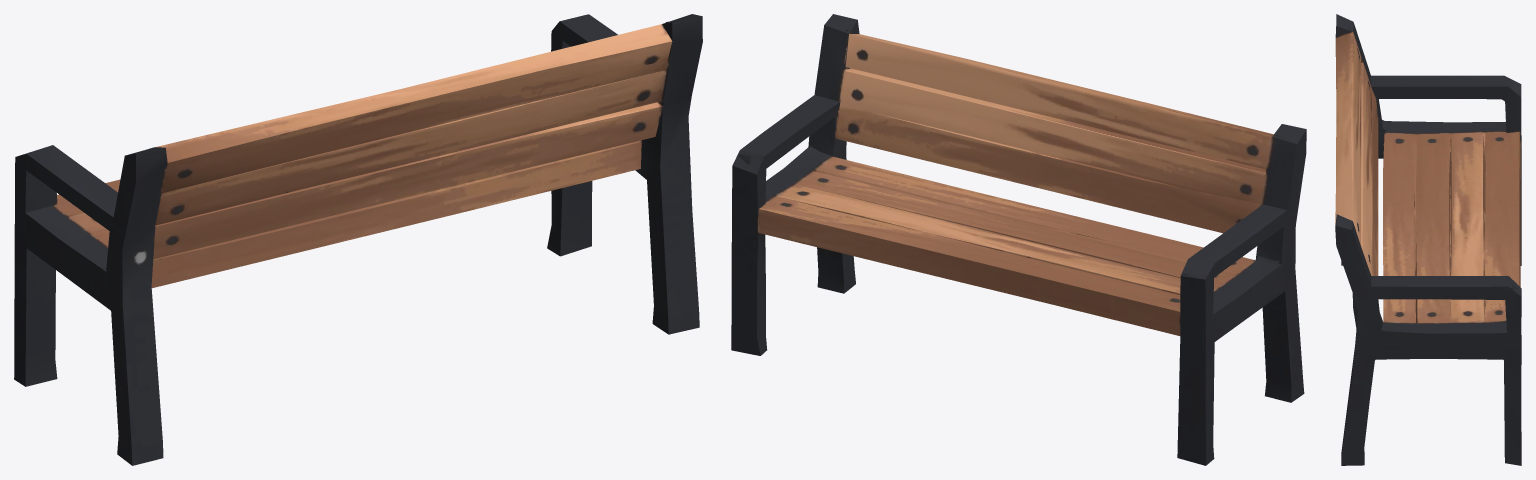
The model's file is seat_bench_v2.glb.
3 views of the same model, side by side, from view 1: azimuth 30°, elevation 25°; view 2: azimuth 150°, elevation 25°; view 3: azimuth 270°, elevation 25° (orthographic). The views are drawn at different scales.
Parts seen in each view (by area): view 1: body; view 2: body; view 3: body.
Boxes of the visible parts, box(x1,y1,x2,y2) form: body: box(14, 14, 702, 465); body: box(731, 14, 1306, 465); body: box(1335, 14, 1521, 465).
Bounding box in the file's own units: 1.6 × 0.8469 × 0.5954.
1 material, 1 textured.
